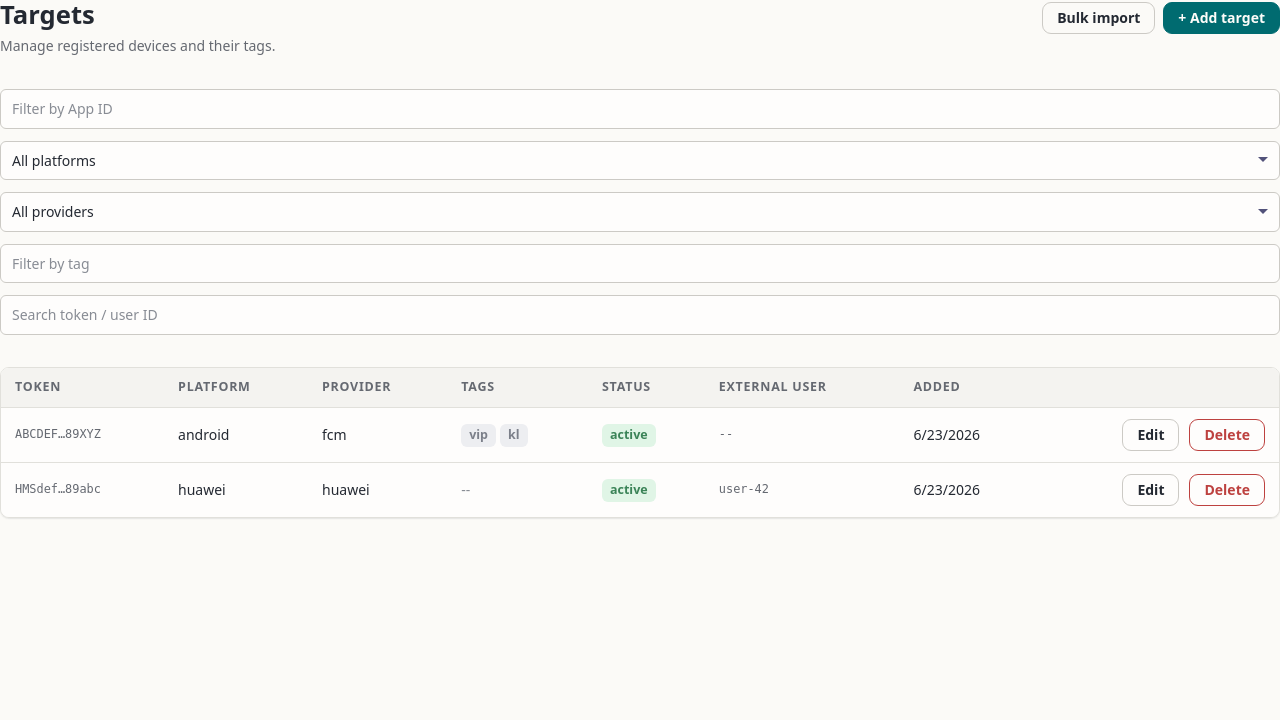
Test: targets page › reveals the add-form panel when "+ Add target" is clicked
Click the button with test id "add-target-btn".
click(1222, 18)  # box x1=1163 y1=2 x2=1279 y2=34
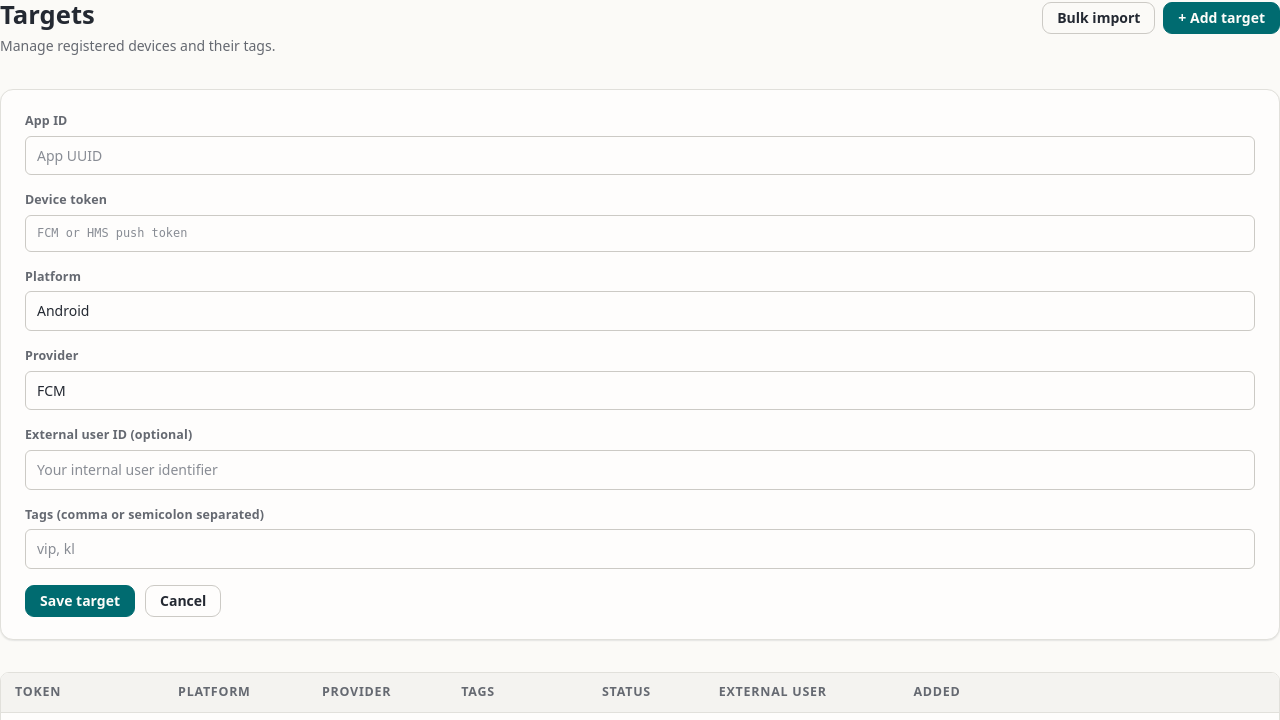
Expected: the field with test id "token-input" is shown, x1=25 y1=215 x2=1255 y2=252
Expected: the dropdown with test id "platform-select" is shown, x1=25 y1=292 x2=1255 y2=331
Expected: the dropdown with test id "provider-select" is shown, x1=25 y1=371 x2=1255 y2=410
